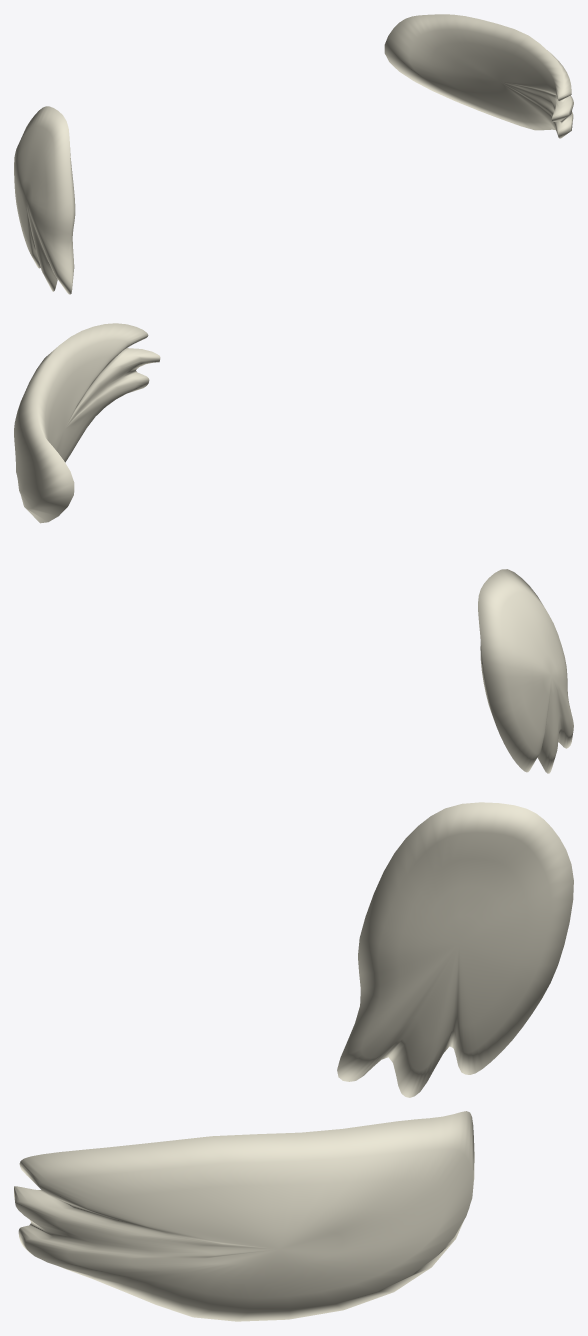
File: goose-weapon-wings-aim-only.glb
3 renders of one model, top to bottom at view 1: azimuth 30°, elevation 25°; view 2: azimuth 150°, elevation 25°; view 3: azimuth 270°, elevation 25°, orthographic. The views are drawn at different scales.
Parts seen in each view (by area): view 1: goose_rightArm_mesh, goose_leftArm_mesh; view 2: goose_rightArm_mesh, goose_leftArm_mesh; view 3: goose_rightArm_mesh, goose_leftArm_mesh.
Part boxes in pixels (box(x1,y1,x2,y2)): goose_rightArm_mesh: box(384, 14, 573, 138); goose_leftArm_mesh: box(14, 106, 75, 294); goose_rightArm_mesh: box(14, 323, 160, 523); goose_leftArm_mesh: box(478, 569, 573, 773); goose_rightArm_mesh: box(14, 1111, 474, 1321); goose_leftArm_mesh: box(337, 802, 573, 1097).
Bounding box in the file's own units: 1.21 × 0.4776 × 0.6512.
